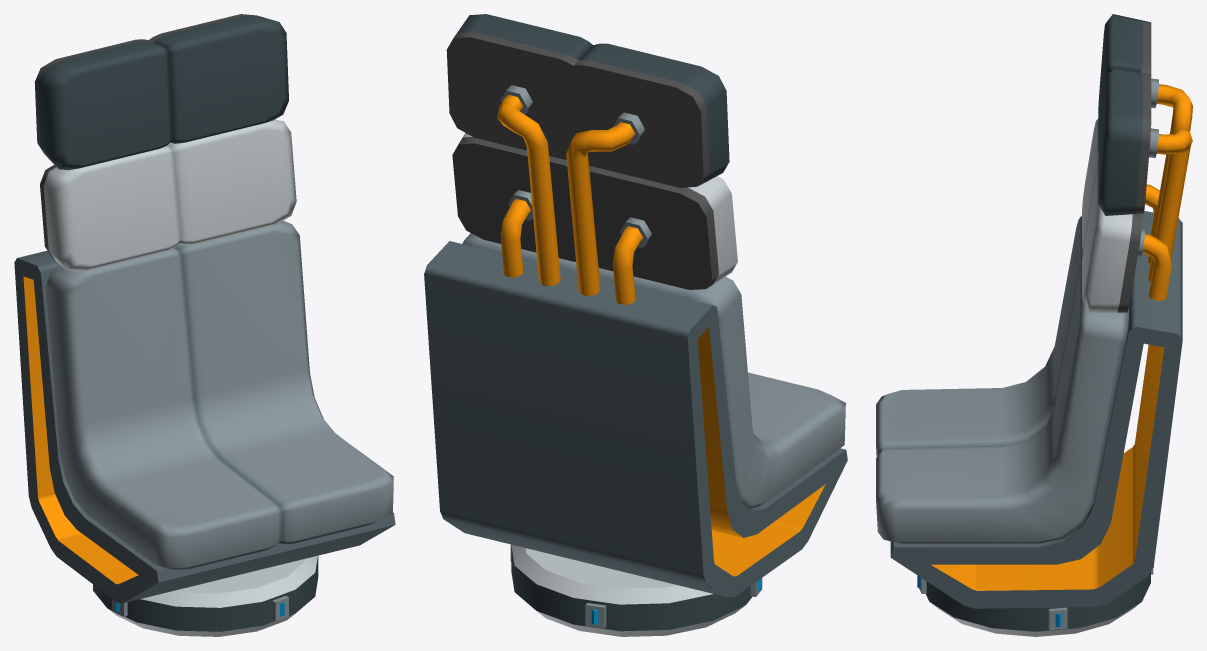
Rendered from Armchair_008.fbx.
The picture shows the model from 3 angles, left to right: view 1: azimuth 30°, elevation 25°; view 2: azimuth 150°, elevation 25°; view 3: azimuth 270°, elevation 25°; orthographic projection. The views are drawn at different scales.
Parts seen in each view (by area): view 1: Armchair_008; view 2: Armchair_008; view 3: Armchair_008.
Part boxes in pixels (x1,y1,x2,y2): Armchair_008: (14, 14, 395, 636); Armchair_008: (424, 14, 847, 636); Armchair_008: (876, 14, 1192, 636).
Bounding box in the file's own units: 63.51 × 72.58 × 134.
